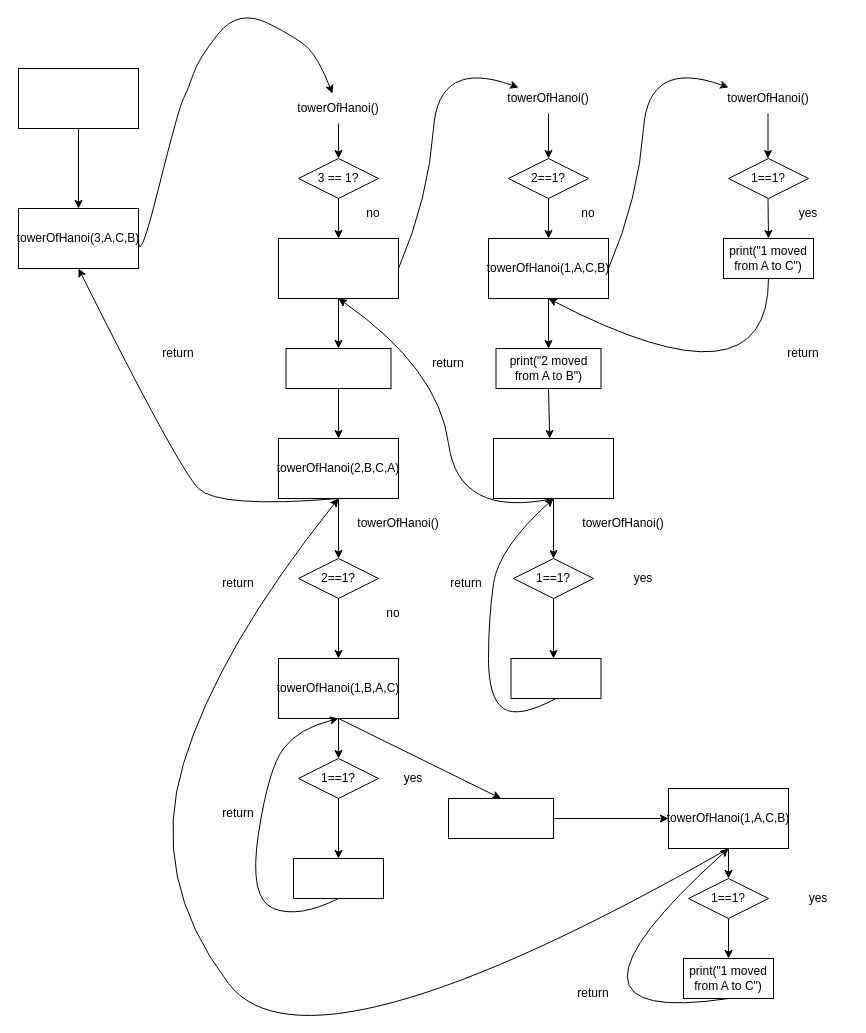
The diagram is 866 pixels wide and 1033 high, and some of its shapes have lost their labels. Each missing label, with the centre of its shape:
main: [78,98]
print("1 moved from B to A"): [338,878]
print("1 moved from C to B"): [555,678]
print("2 moved from B to C"): [501,818]
print("3 moved from A to C"): [338,368]
towerOfHanoi(1,C,B,A): [553,468]
towerOfHanoi(2,A,B,C): [338,268]
